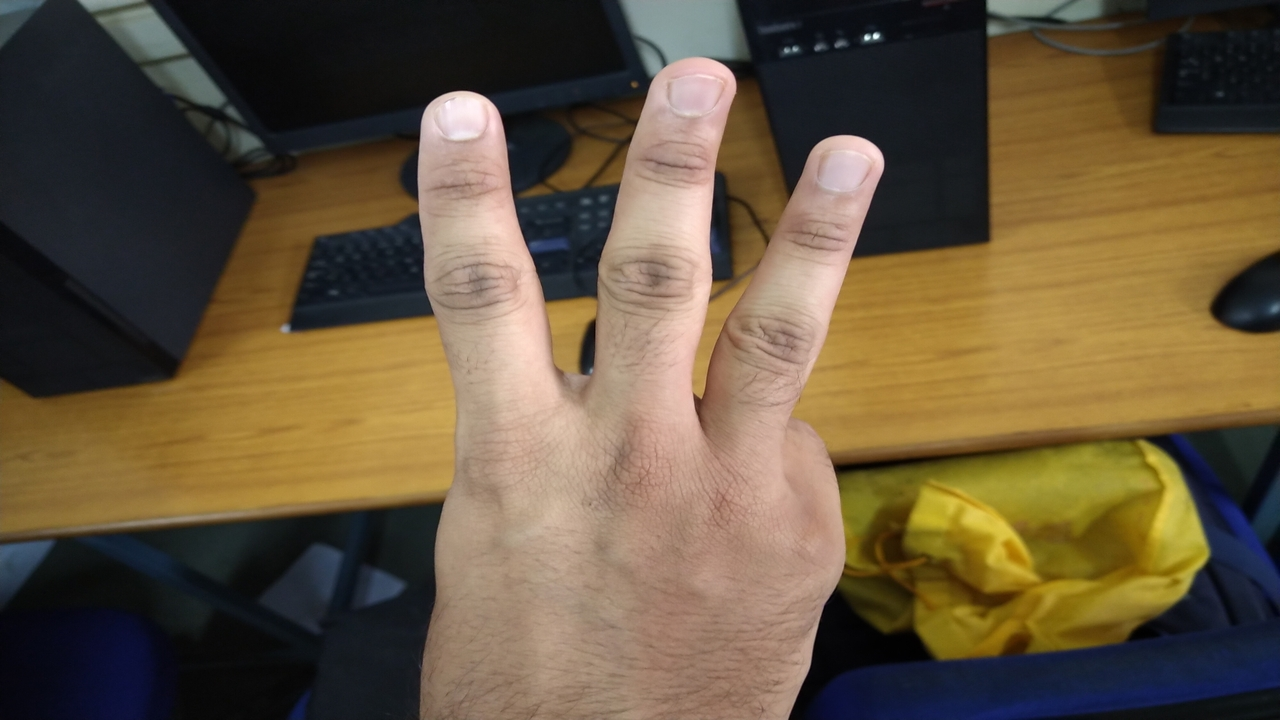fingertip: (406, 88, 506, 164), (806, 121, 884, 211), (644, 57, 738, 129)
